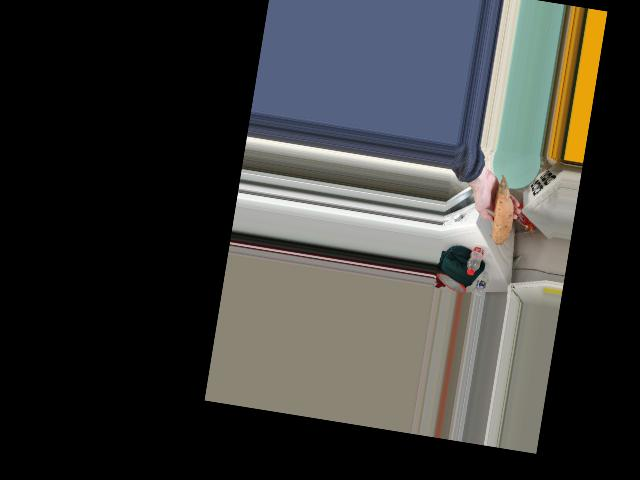sweet_potato: (487, 177, 515, 240)
